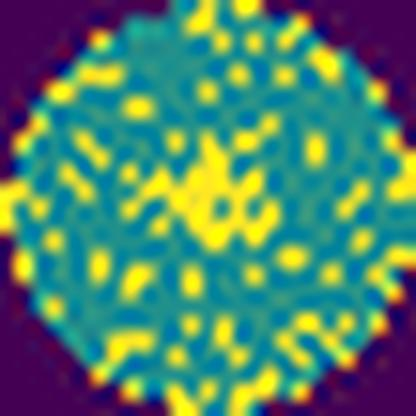Center: (122, 128, 283, 250)
